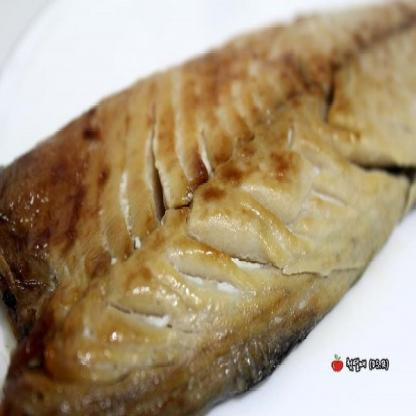Peixe: (0, 10, 416, 416)
